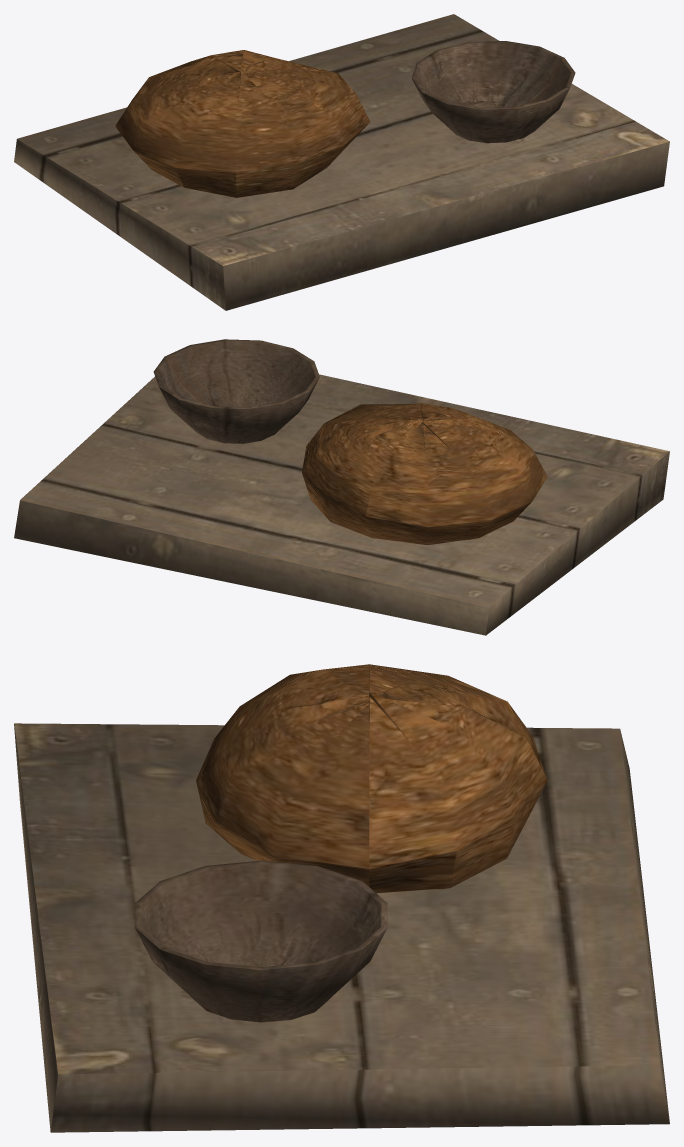
Rendered from kit_trencher_p.glb.
3 views of the same model, one above another, from view 1: azimuth 30°, elevation 25°; view 2: azimuth 150°, elevation 25°; view 3: azimuth 270°, elevation 25° (orthographic). The views are drawn at different scales.
Visible parts, largest first — view 1: kit_trencher_p; view 2: kit_trencher_p; view 3: kit_trencher_p.
Part boxes in pixels (box(x1,y1,x2,y2)): kit_trencher_p: box(14, 14, 669, 310); kit_trencher_p: box(14, 339, 669, 635); kit_trencher_p: box(14, 664, 669, 1132).
Size of the model in its own units: 0.479 by 0.126 by 0.364.
Materials: 1 (1 with a texture image).
